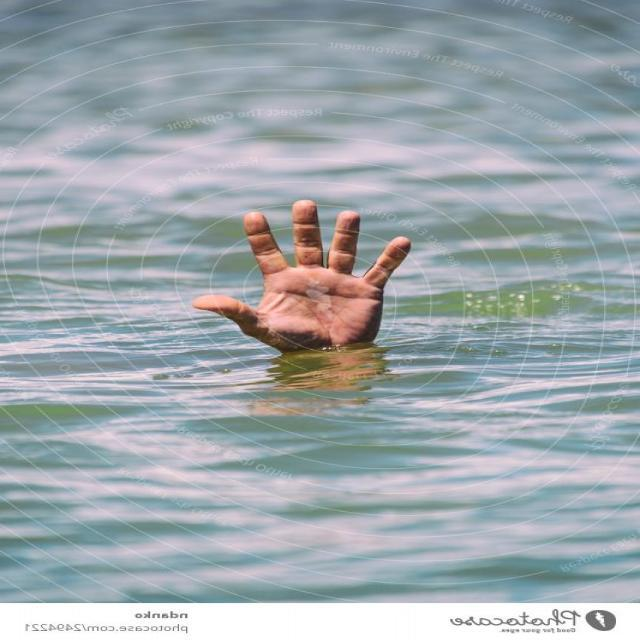Out of Water: (178, 190, 415, 438)
